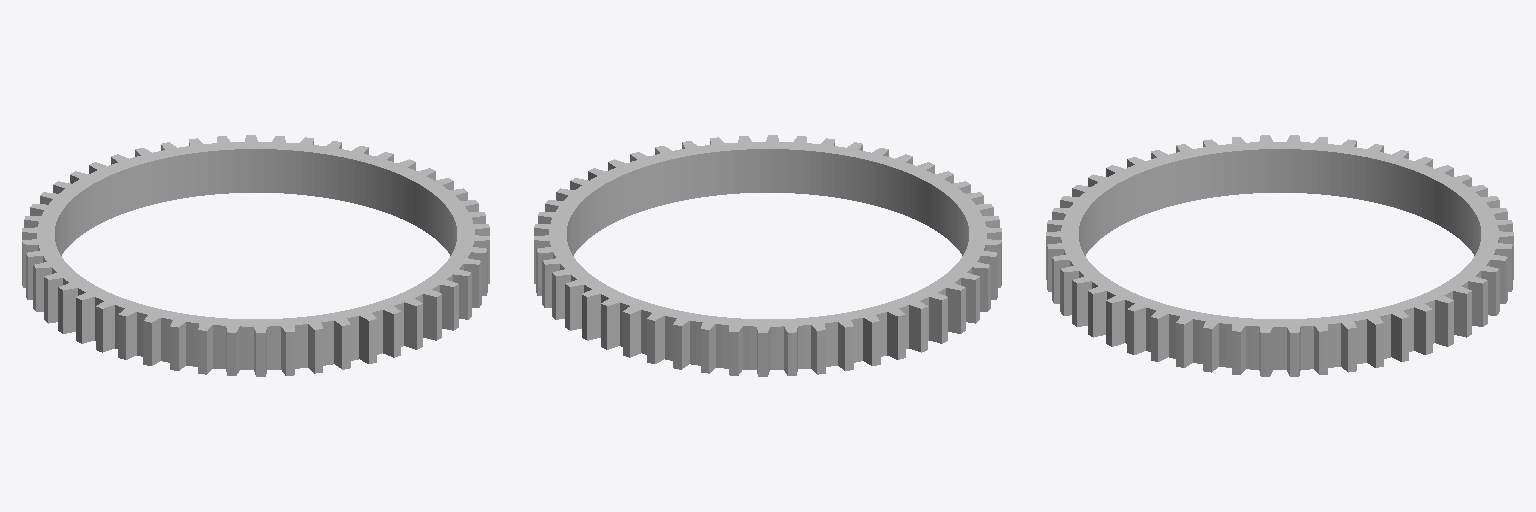
File: gear_1.obj
The picture shows the model from 3 angles: view 1: azimuth 30°, elevation 25°; view 2: azimuth 150°, elevation 25°; view 3: azimuth 270°, elevation 25°; orthographic projection.
Parts seen in each view (by area): view 1: Gear.001; view 2: Gear.001; view 3: Gear.001.
Boxes of the visible parts, <box> form: Gear.001: <box>22,135,489,376</box>; Gear.001: <box>534,135,1001,376</box>; Gear.001: <box>1046,135,1513,376</box>.
Bounding box in the file's own units: 2.14 × 0.22 × 2.14.